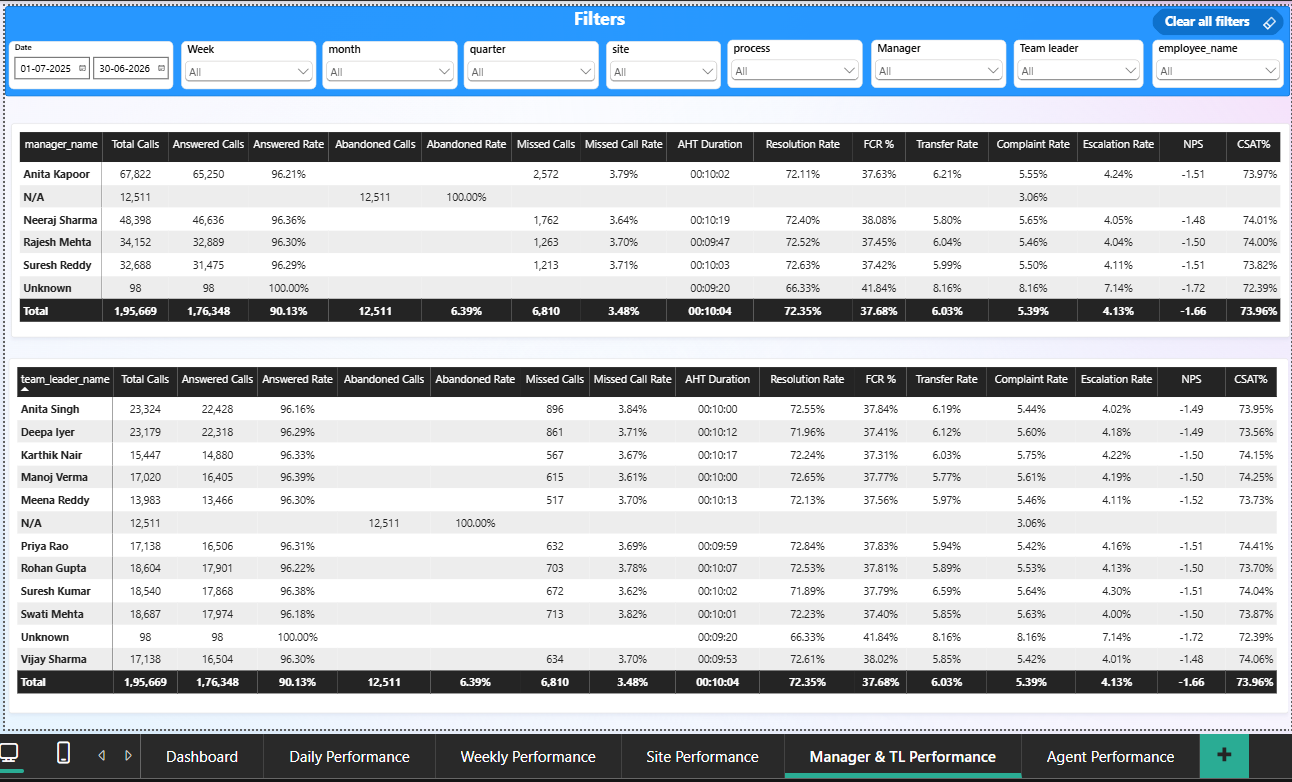

Layout of this report page (visuals, bound fields, positions):
{"tool":"powerbi","page":{"name":"Manager & TL Performance","canvas":[1920,1080],"ordinal":4},"visuals":[{"type":"shape","box":[0,0,1920,135],"z":0},{"type":"pivotTable","fields":{"Values":["fact_calls.Total Calls","fact_calls.Answered Calls","fact_calls.Answer Rate","fact_calls.Abandoned Calls","fact_calls.Abandoned Rate","fact_calls.Missed Calls","fact_calls.Missed Call Rate","fact_calls.AHT Duration","fact_calls.Resolution Rate","fact_calls.FCR %","fact_calls.Transfer Rate","fact_calls.Complaint Rate"],"Rows":["dim_employee.manager_name"]},"box":[9.3,175.4,1910.7,319.1],"z":1000},{"type":"slicer","fields":{"Values":["calendar.Week"]},"box":[262.3,51.3,201.5,72.2],"z":2000},{"type":"slicer","fields":{"Values":["calendar.Date"]},"box":[5.7,51.3,245.2,72.2],"z":3000},{"type":"slicer","fields":{"Values":["calendar.month_year"]},"box":[473.3,51.3,201.5,72.2],"z":4000},{"type":"slicer","fields":{"Values":["calendar.quarter"]},"box":[684.4,51.3,201.5,72.2],"z":5000},{"type":"slicer","fields":{"Values":["dim_employee.site"]},"box":[897.3,51.3,171.1,72.2],"z":6000},{"type":"slicer","fields":{"Values":["dim_employee.process"]},"box":[1077.9,51.3,201.5,72.2],"z":7000},{"type":"slicer","fields":{"Values":["dim_employee.manager_name"]},"box":[1292.7,51.3,201.5,72.2],"z":8000},{"type":"slicer","fields":{"Values":["dim_employee.team_leader_name"]},"box":[1505.6,51.3,193.9,72.2],"z":9000},{"type":"textbox","box":[849.7,0,127.4,43.7],"z":10000},{"type":"slicer","fields":{"Values":["dim_employee.employee_name"]},"box":[1712.8,51.3,195.8,72.2],"z":11000},{"type":"actionButton","box":[1712.8,3.8,195.8,39.9],"z":12000},{"type":"pivotTable","fields":{"Values":["fact_calls.Total Calls","fact_calls.Answered Calls","fact_calls.Answer Rate","fact_calls.Abandoned Calls","fact_calls.Abandoned Rate","fact_calls.Missed Calls","fact_calls.Missed Call Rate","fact_calls.AHT Duration","fact_calls.Resolution Rate","fact_calls.FCR %","fact_calls.Transfer Rate","fact_calls.Complaint Rate"],"Rows":["dim_employee.team_leader_name"]},"box":[5.6,526.2,1910.7,529.9],"z":13000}]}

Visuals, with their boxes on the page's 1920x1080 design canvas (x1, y1, x2, y2). These are canvas units, not pixel positions in the 1292x782 screenshot, which may show the page scaled, cropped or inside an application window:
shape: select_region(0, 0, 1920, 135)
pivotTable - fact_calls.Total Calls x fact_calls.Answered Calls: select_region(9, 175, 1920, 494)
slicer - calendar.Week: select_region(262, 51, 464, 124)
slicer - calendar.Date: select_region(6, 51, 251, 124)
slicer - calendar.month_year: select_region(473, 51, 675, 124)
slicer - calendar.quarter: select_region(684, 51, 886, 124)
slicer - dim_employee.site: select_region(897, 51, 1068, 124)
slicer - dim_employee.process: select_region(1078, 51, 1279, 124)
slicer - dim_employee.manager_name: select_region(1293, 51, 1494, 124)
slicer - dim_employee.team_leader_name: select_region(1506, 51, 1700, 124)
textbox: select_region(850, 0, 977, 44)
slicer - dim_employee.employee_name: select_region(1713, 51, 1909, 124)
actionButton: select_region(1713, 4, 1909, 44)
pivotTable - fact_calls.Total Calls x fact_calls.Answered Calls: select_region(6, 526, 1916, 1056)
